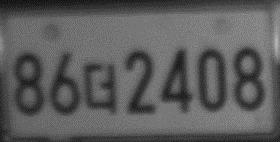0: (197, 48, 228, 112)
2: (124, 50, 157, 115)
4: (158, 47, 194, 112)
6: (48, 51, 81, 114)
8: (231, 46, 267, 111), (12, 52, 47, 114)
더: (83, 62, 117, 116)
